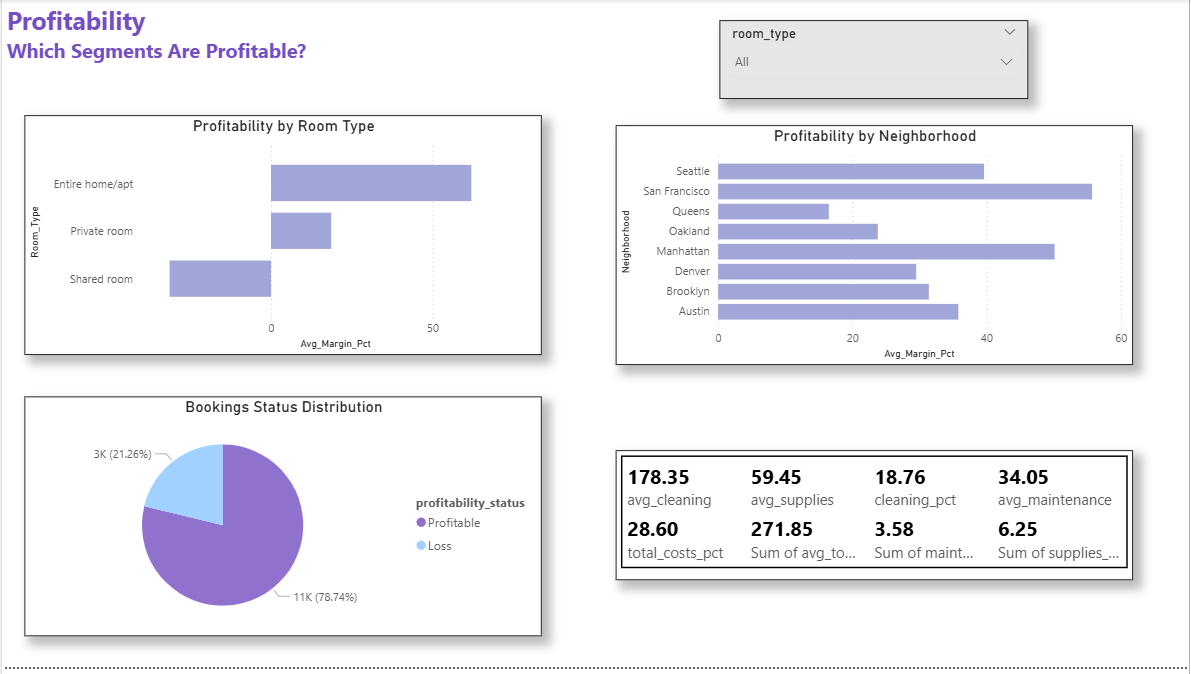

The page's visual inventory and layout, read from the dashboard file:
{"tool":"powerbi","page":{"name":"Profitability","canvas":[1280,720],"ordinal":2},"visuals":[{"type":"textbox","box":[0,0,456.9,107.8],"z":0},{"type":"barChart","title":"Profitability by Room Type","fields":{"Category":["booking_analysis kpi_room_type_performance.room_type"],"Y":["Avg(booking_analysis kpi_room_type_performance.avg_margin_pct)"]},"box":[24.3,125.3,557.9,258.8],"z":1000},{"type":"barChart","title":"Profitability by Neighborhood","fields":{"Category":["booking_analysis kpi_neighborhood_performance.neighborhood"],"Y":["Avg(booking_analysis kpi_neighborhood_performance.avg_margin_pct)"]},"box":[661.7,136.1,557.9,258.8],"z":2000},{"type":"multiRowCard","fields":{"Values":["booking_analysis kpi_cost_breakdown.avg_cleaning","booking_analysis kpi_cost_breakdown.avg_supplies","booking_analysis kpi_cost_breakdown.cleaning_pct","booking_analysis kpi_cost_breakdown.avg_maintenance","booking_analysis kpi_cost_breakdown.total_costs_pct","Sum(booking_analysis kpi_cost_breakdown.avg_total_costs)","Sum(booking_analysis kpi_cost_breakdown.maintenance_pct)","Sum(booking_analysis kpi_cost_breakdown.supplies_pct)"]},"box":[661.7,486.5,557.9,140.2],"z":3000},{"type":"pieChart","title":"Bookings Status Distribution","fields":{"Category":["booking_analysis kpi_profitability_distribution.profitability_status"],"Y":["Sum(booking_analysis kpi_profitability_distribution.num_bookings)"]},"box":[24.3,428.6,557.9,258.8],"z":4000},{"type":"slicer","fields":{"Values":["booking_analysis kpi_room_type_performance.room_type"]},"box":[773.6,22.9,332.9,84.9],"z":4001}]}

Visuals, with their boxes in screenshot pixels (x1, y1, x2, y2), scaled from the page's 1280x720 canvas onto the 1191x674 screenshot:
textbox: [x1=0, y1=0, x2=425, y2=101]
"Profitability by Room Type" barChart: [x1=23, y1=117, x2=542, y2=360]
"Profitability by Neighborhood" barChart: [x1=616, y1=127, x2=1135, y2=370]
multiRowCard - booking_analysis kpi_cost_breakdown.avg_cleaning x booking_analysis kpi_cost_breakdown.avg_supplies: [x1=616, y1=455, x2=1135, y2=587]
"Bookings Status Distribution" pieChart: [x1=23, y1=401, x2=542, y2=643]
slicer - booking_analysis kpi_room_type_performance.room_type: [x1=720, y1=21, x2=1030, y2=101]
